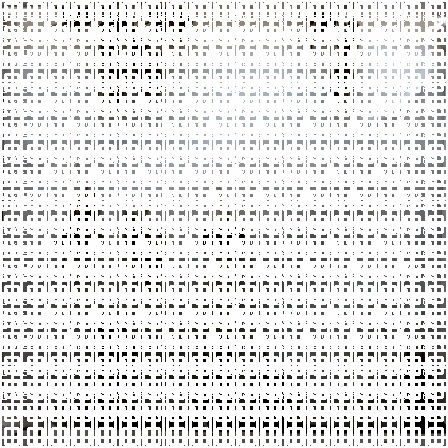bee: (173, 183, 265, 281), (31, 161, 108, 267), (67, 295, 147, 378), (180, 323, 244, 418), (108, 195, 170, 286), (77, 20, 134, 116), (384, 346, 440, 438), (122, 21, 175, 116), (317, 13, 365, 117), (250, 351, 307, 432), (144, 3, 203, 53)
